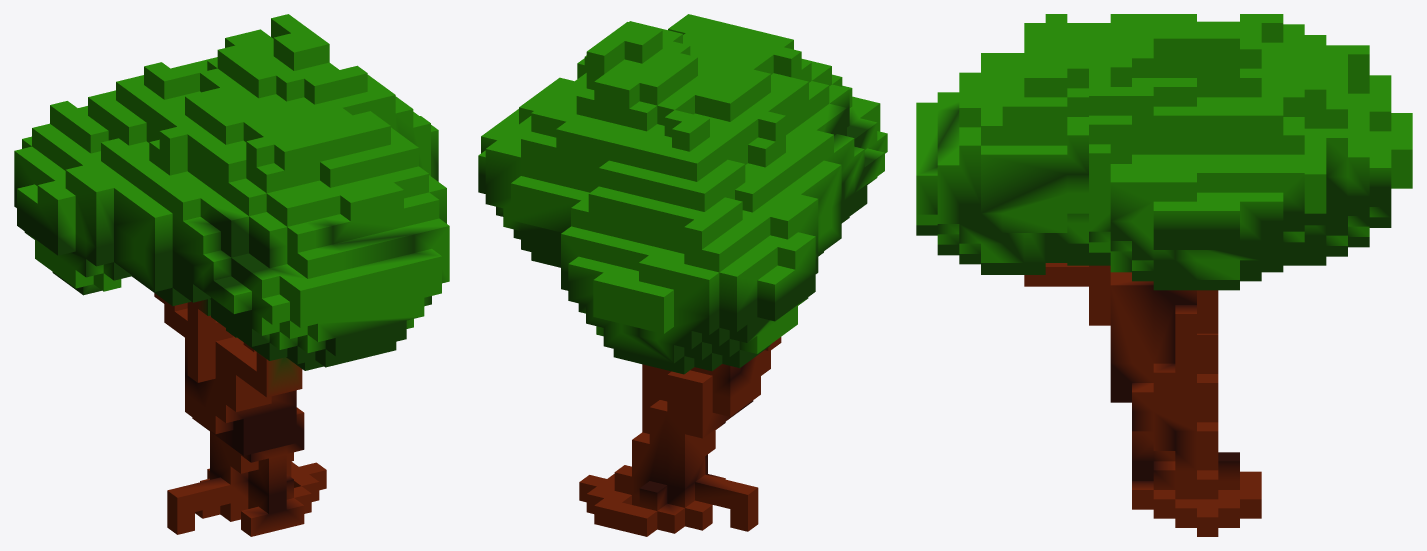
The model's file is Tree_10.fbx.
3 views of the same model, side by side, from view 1: azimuth 30°, elevation 25°; view 2: azimuth 150°, elevation 25°; view 3: azimuth 270°, elevation 25° (orthographic). The views are drawn at different scales.
Parts seen in each view (by area): view 1: Tree_10; view 2: Tree_10; view 3: Tree_10.
Boxes of the visible parts, left/top/right/bottom form: Tree_10: left=14, top=14, right=449, bottom=536; Tree_10: left=478, top=14, right=887, bottom=536; Tree_10: left=916, top=14, right=1412, bottom=536.
Bounding box in the file's own units: 487 × 641 × 590.
